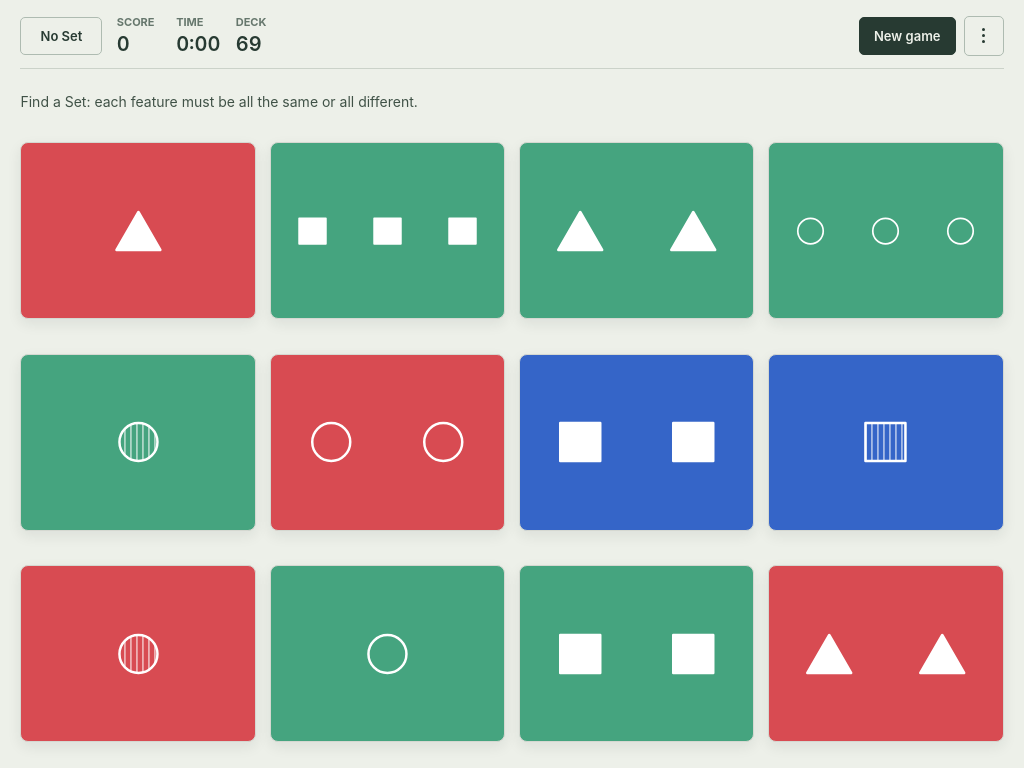
Test: penalizes an incorrect no-set claim and then offers a single hint
This screenshot has width=1024, height=768.
Click the button "No Set".
click(62, 36)  # box [20, 17, 102, 55]
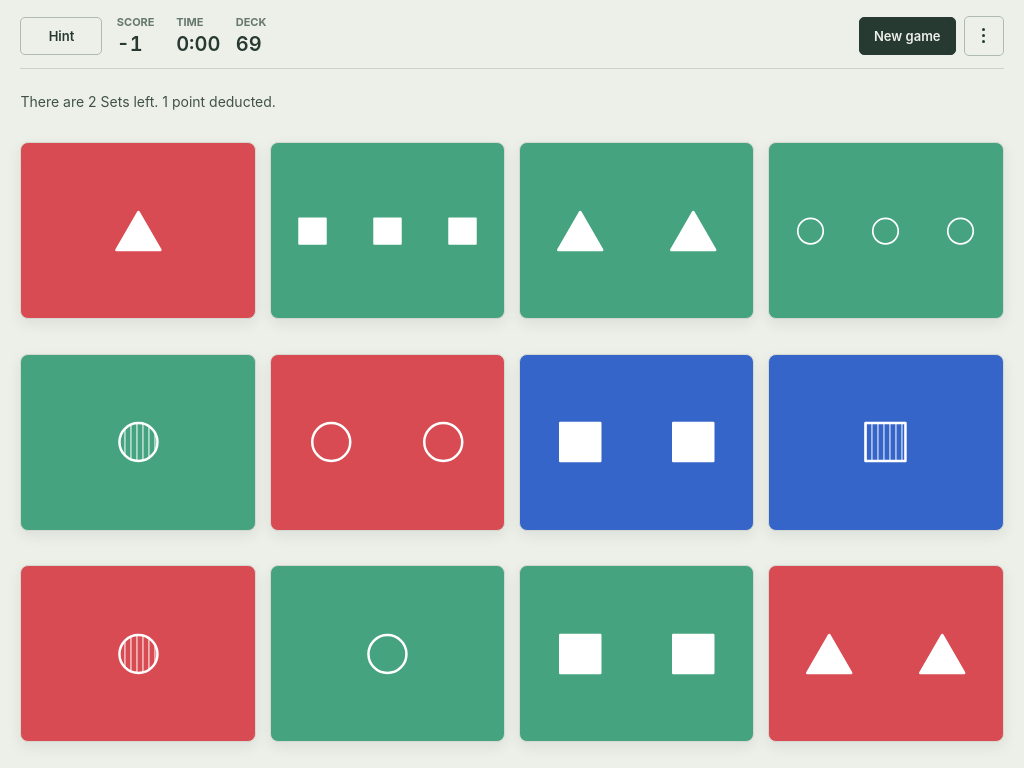
Now the text "-1" is shown, box [117, 32, 143, 56]
Now the button "Hint" is shown
Click the button "Hint".
click(62, 36)  # box [20, 17, 102, 55]
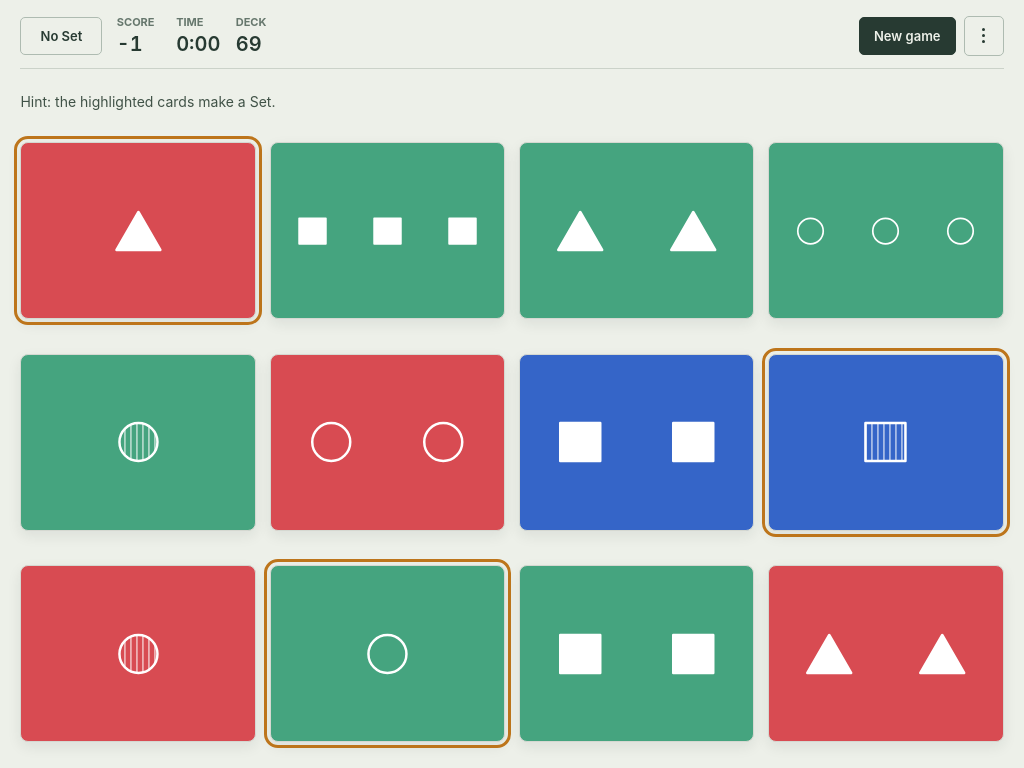
Expected: the number of buttons with class "set-card--hinted" is 3, [20, 142, 256, 319]; [768, 354, 1004, 530]; [270, 565, 505, 742]
Now the button "No Set" is shown, box [20, 17, 102, 55]
